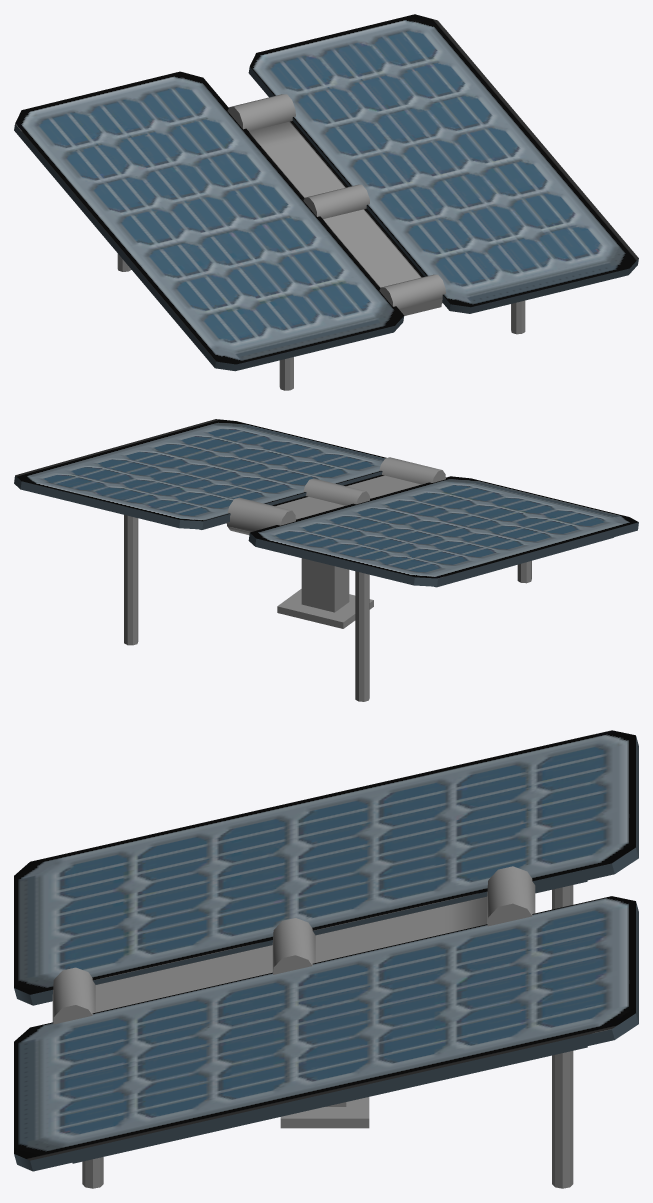
Rendered from Building_SolarGenerator.obj.
3 views of the same model, one above another, from view 1: azimuth 30°, elevation 25°; view 2: azimuth 150°, elevation 25°; view 3: azimuth 270°, elevation 25° (orthographic). The views are drawn at different scales.
Parts seen in each view (by area): view 1: Body; view 2: Body; view 3: Body.
Part boxes in pixels (x1,y1,x2,y2): Body: (14,14,638,390); Body: (14,419,638,701); Body: (14,730,638,1188).
Bounding box in the file's own units: 4 × 1.44 × 3.53.
Materials: 1 (1 with a texture image).
